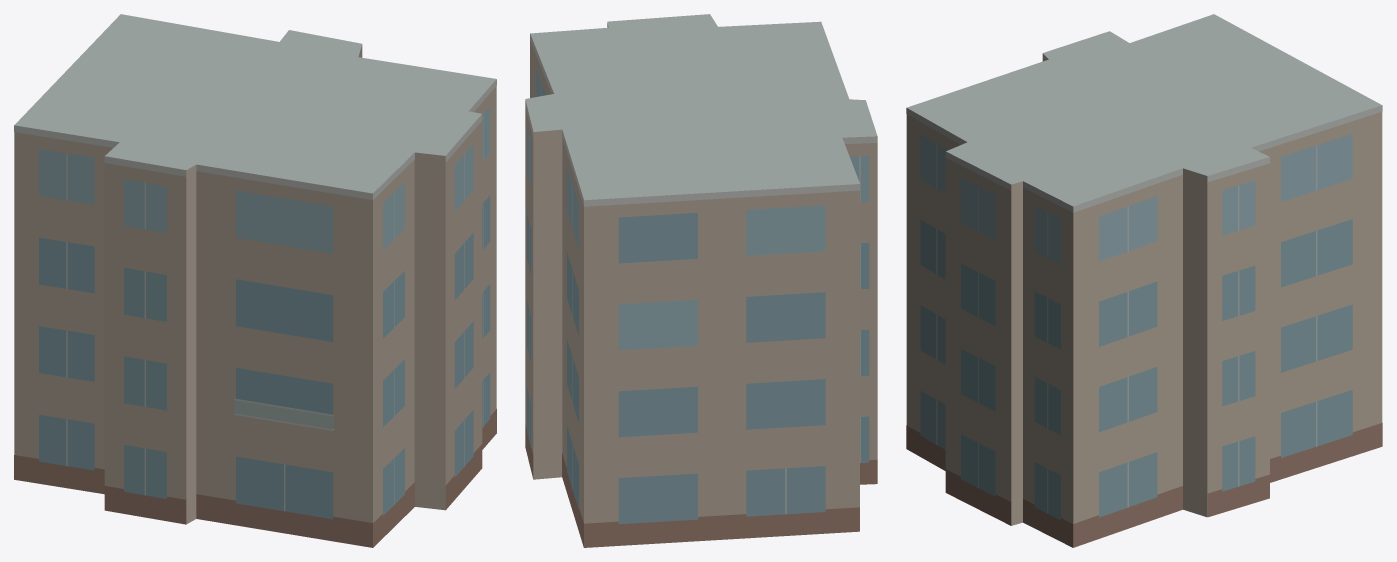
The model's file is survey-upis-32732679.glb.
3 views of the same model, side by side, from view 1: azimuth 30°, elevation 25°; view 2: azimuth 150°, elevation 25°; view 3: azimuth 270°, elevation 25° (orthographic). The views are drawn at different scales.
Visible parts, largest first — view 1: survey-upis-32732679.tmp; view 2: survey-upis-32732679.tmp; view 3: survey-upis-32732679.tmp.
Boxes of the visible parts, left/top/right/bottom form: survey-upis-32732679.tmp: left=14, top=14, right=496, bottom=547; survey-upis-32732679.tmp: left=525, top=14, right=877, bottom=547; survey-upis-32732679.tmp: left=906, top=14, right=1382, bottom=547.
Bounding box in the file's own units: 15.73 × 13 × 16.43.
